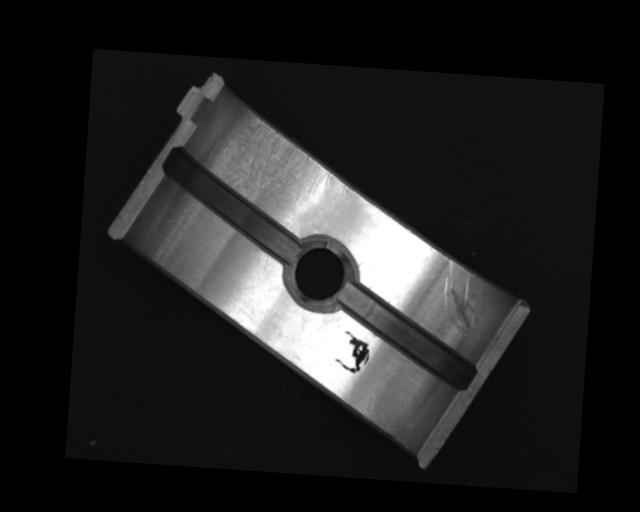blot: (333, 324, 372, 375)
gap: (157, 146, 306, 264), (333, 282, 482, 390)
hole: (281, 234, 360, 314)
nick: (441, 256, 483, 338)
scratch: (205, 107, 354, 208)
